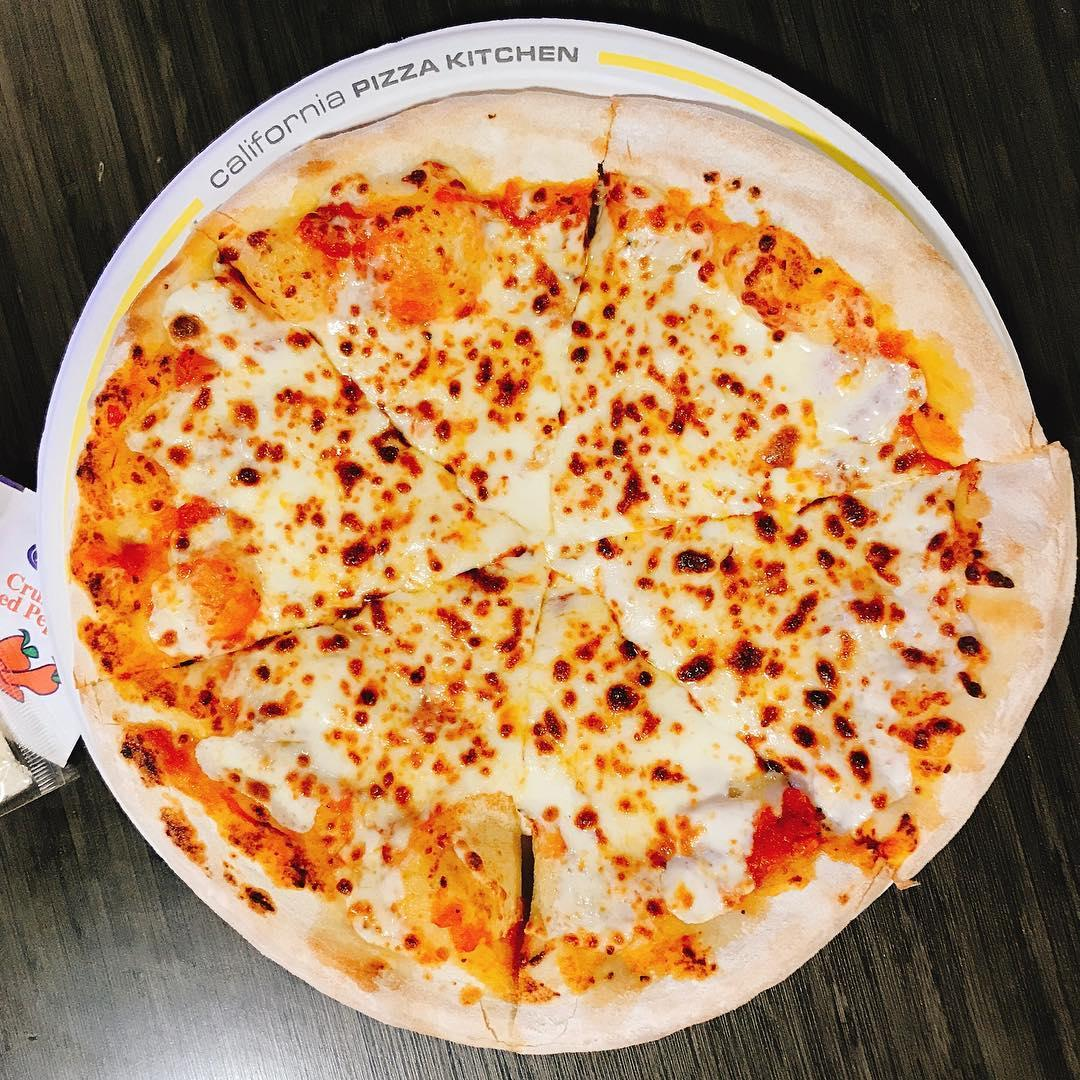Pizza: (81, 86, 1080, 1062)
